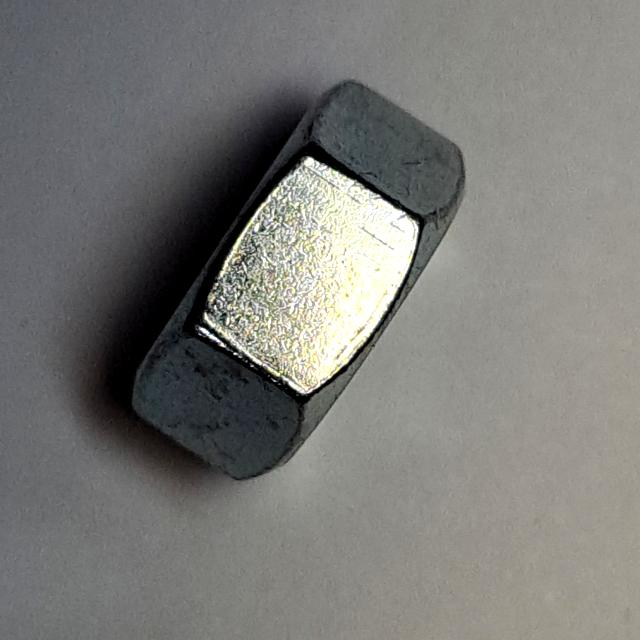Side_Excellent: (113, 64, 486, 498)
